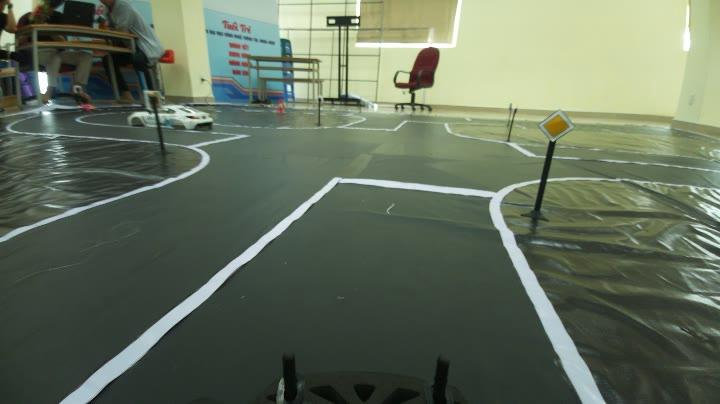priority: (534, 106, 574, 145)
